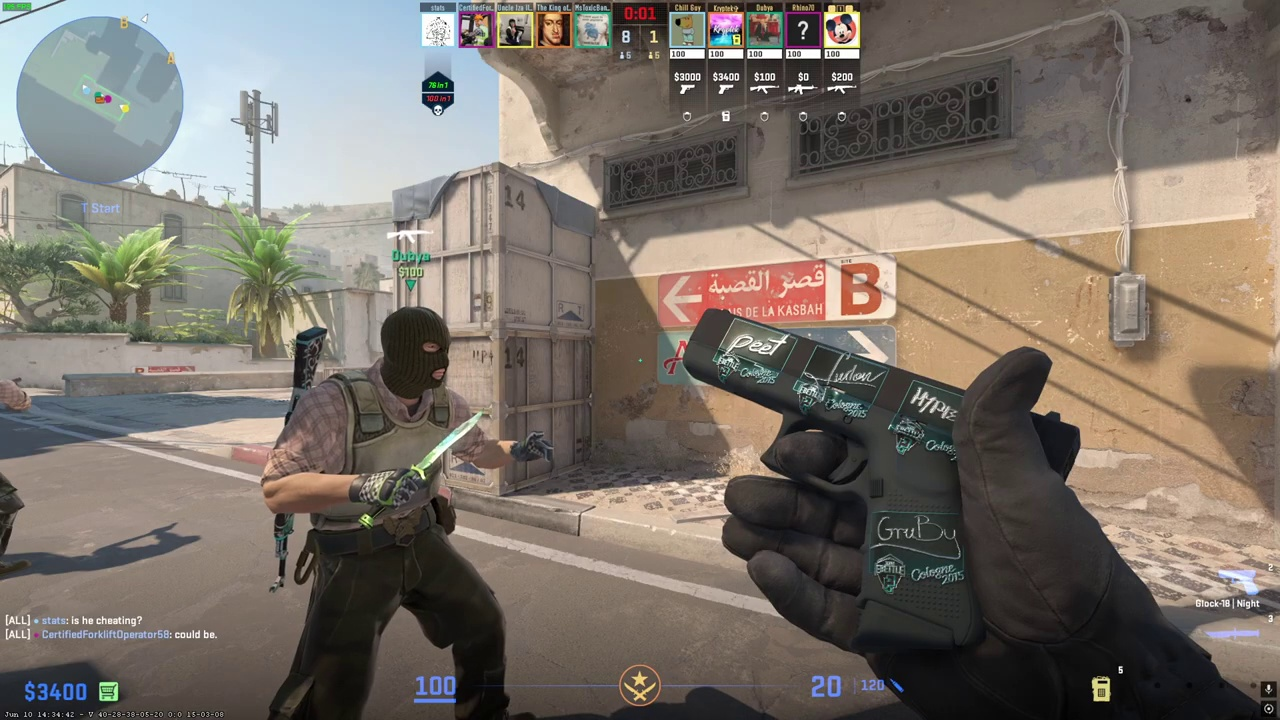Terrorist: (268, 306, 519, 720)
